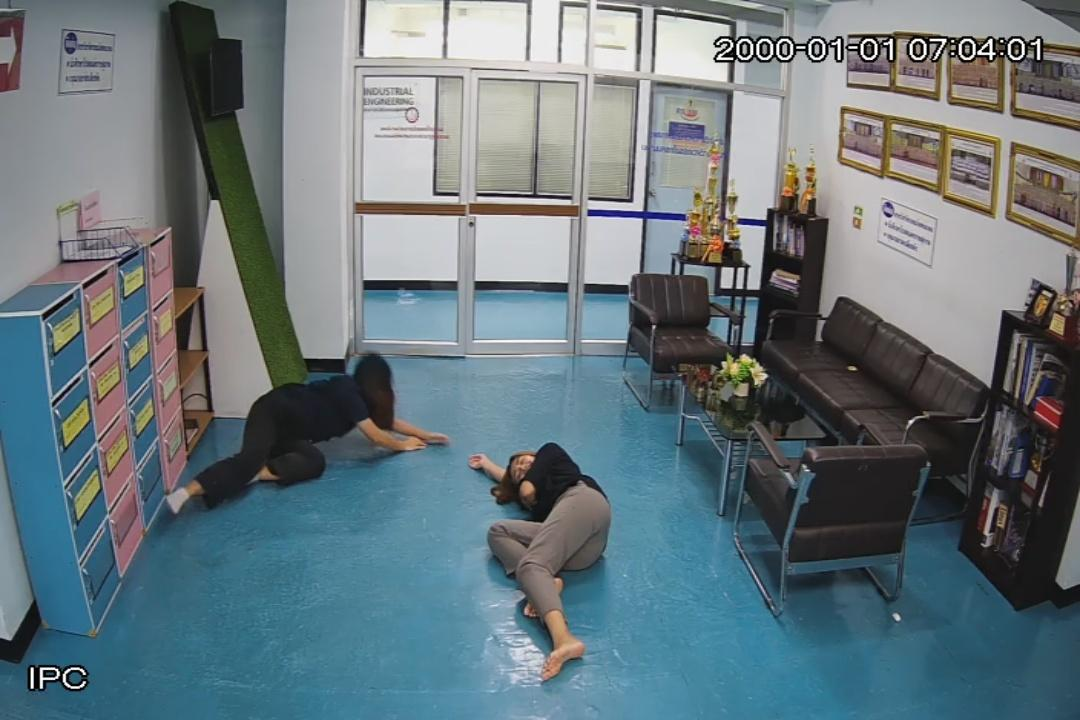fall: (163, 356, 440, 511), (482, 442, 608, 675)
